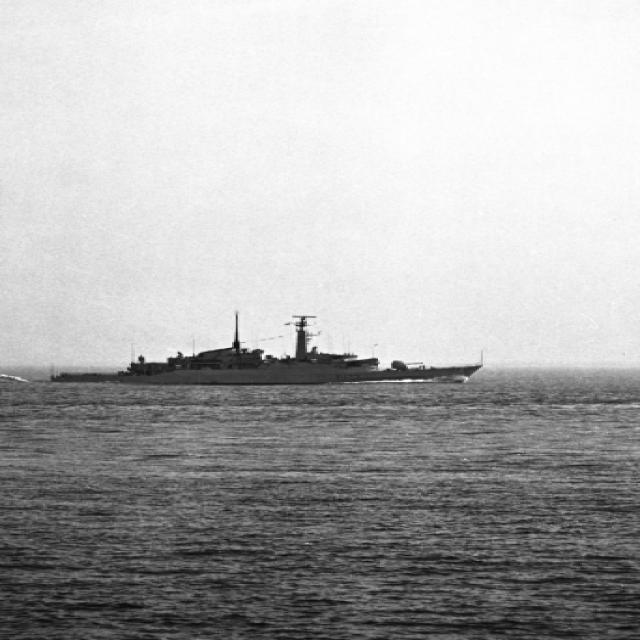Fragata: (42, 299, 499, 389)
